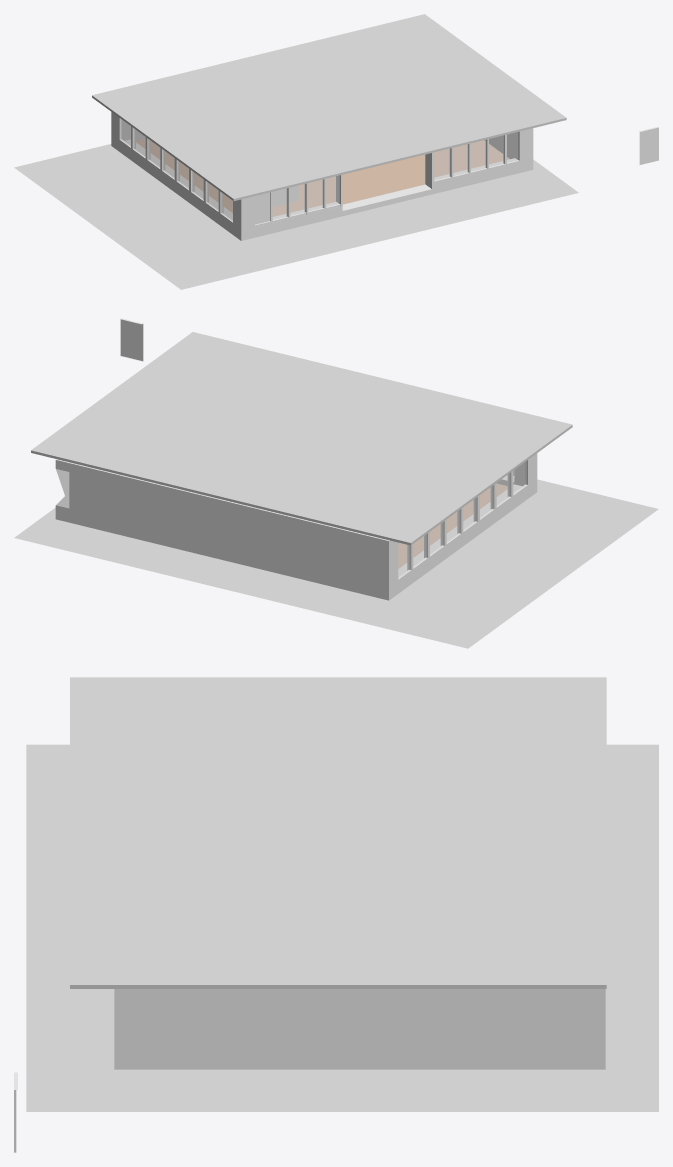
File: gallery.gltf
3 renders of one model, top to bottom at view 1: azimuth 30°, elevation 25°; view 2: azimuth 150°, elevation 25°; view 3: azimuth 270°, elevation 25°, orthographic. The views are drawn at different scales.
Visible parts, largest first — view 1: Cube.011, Plane, Cube, floor.010, Cube.013, Mirror.020, Mirror.029, Mirror.027, Mirror.021, Mirror.026, Mirror.022, Mirror.028 (+1 smaller); view 2: Cube.011, Plane, Cube, floor.010, Cube.013; view 3: Cube.011, Plane, Cube.
Part boxes in pixels (x1,y1,x2,y2): Cube.011: (92, 14, 566, 200); Plane: (14, 144, 578, 289); Cube: (111, 112, 533, 240); floor.010: (136, 139, 509, 216); Cube.013: (639, 127, 658, 165); Mirror.020: (434, 149, 450, 180); Mirror.029: (255, 192, 270, 224); Mirror.027: (290, 184, 305, 215); Mirror.021: (453, 144, 468, 175); Mirror.026: (308, 180, 323, 211); Mirror.022: (471, 140, 485, 171); Mirror.028: (273, 188, 287, 219); Cube.011: (31, 332, 572, 545); Plane: (14, 479, 658, 648); Cube: (55, 453, 537, 600); floor.010: (398, 483, 507, 568); Cube.013: (120, 318, 143, 361); Cube.011: (70, 677, 606, 988); Plane: (26, 744, 658, 1111); Cube: (114, 989, 605, 1069).
Bounding box in the file's own units: 37.13 × 4.99 × 23.1.
